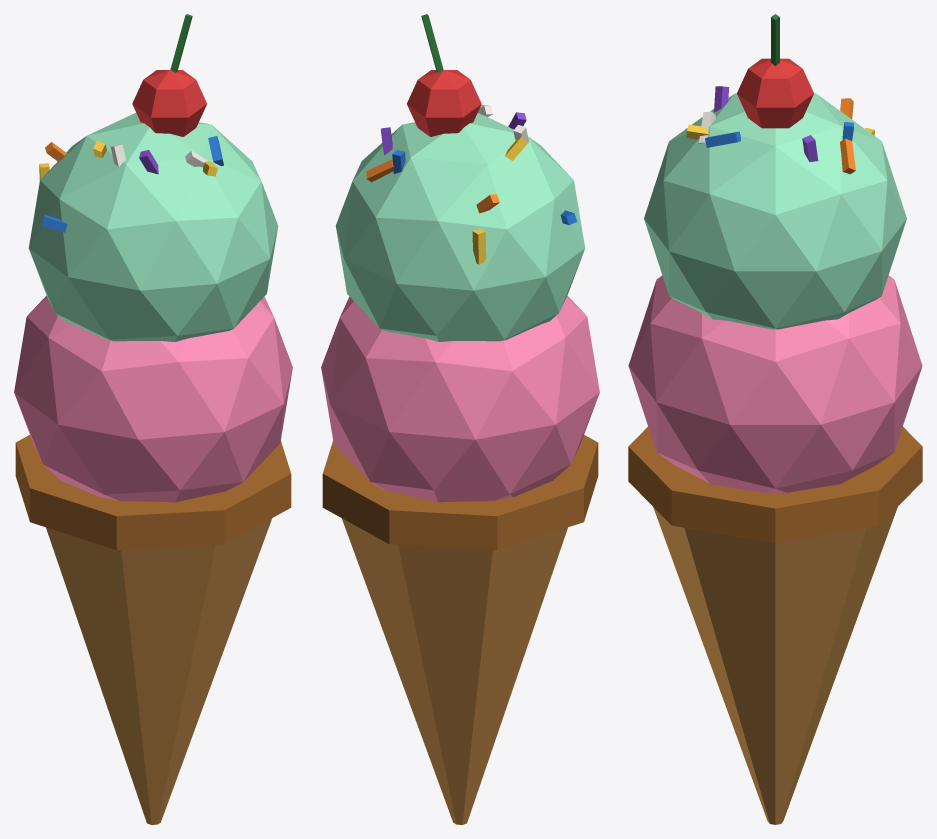
File: IceCream.fbx
3 renders of one model, left to right at view 1: azimuth 30°, elevation 25°; view 2: azimuth 150°, elevation 25°; view 3: azimuth 270°, elevation 25°, orthographic. The views are drawn at different scales.
Visible parts, largest first — view 1: Ice Cream; view 2: Ice Cream; view 3: Ice Cream.
Boxes of the visible parts, x1=… form: Ice Cream: x1=14, y1=14, x2=292, y2=824; Ice Cream: x1=321, y1=14, x2=599, y2=824; Ice Cream: x1=628, y1=14, x2=922, y2=824.
Bounding box in the file's own units: 2.28 × 7.05 × 2.28.
1 material, 1 textured.
